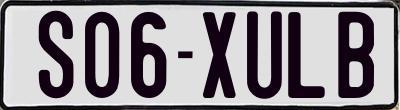0: (83, 9, 120, 100)
6: (131, 10, 166, 102)
B: (335, 12, 371, 103)
L: (288, 9, 331, 100)
S: (39, 8, 75, 96)
U: (246, 11, 282, 99)
X: (202, 11, 236, 103)
